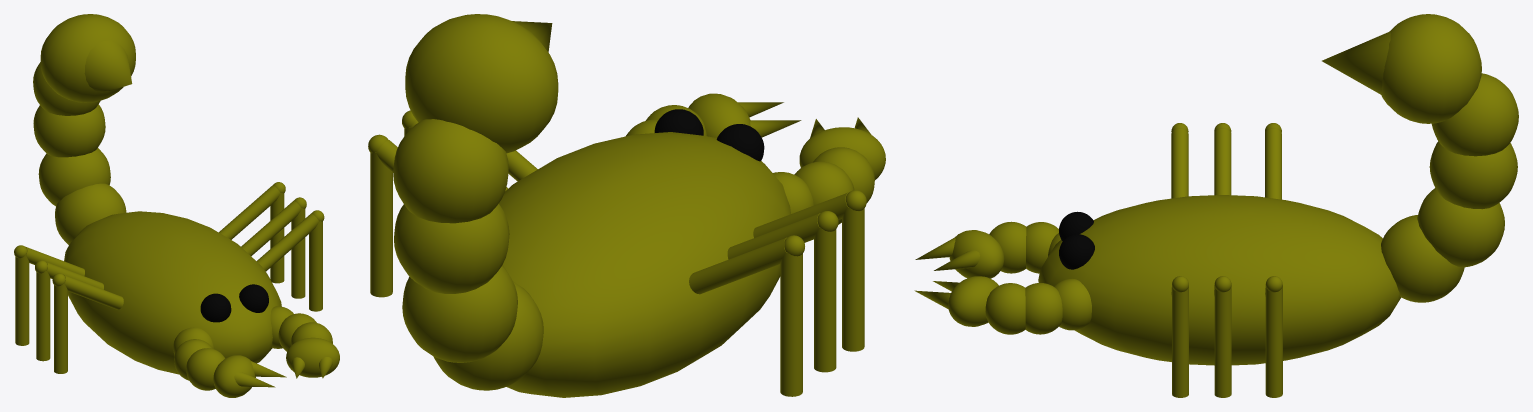
Rendered from scorpion.fbx.
The picture shows the model from 3 angles, left to right: view 1: azimuth 30°, elevation 25°; view 2: azimuth 150°, elevation 25°; view 3: azimuth 270°, elevation 25°; orthographic projection. The views are drawn at different scales.
Parts seen in each view (by area): view 1: pSphere7; view 2: pSphere7; view 3: pSphere7.
Part boxes in pixels (x1=…): pSphere7: x1=14, y1=14, x2=339, y2=397; pSphere7: x1=368, y1=14, x2=885, y2=397; pSphere7: x1=914, y1=14, x2=1518, y2=397.
Bounding box in the file's own units: 6.3 × 6.07 × 10.04.
